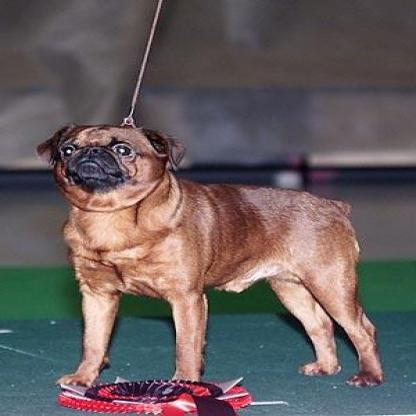Brabancon_griffon: (32, 121, 383, 390)
